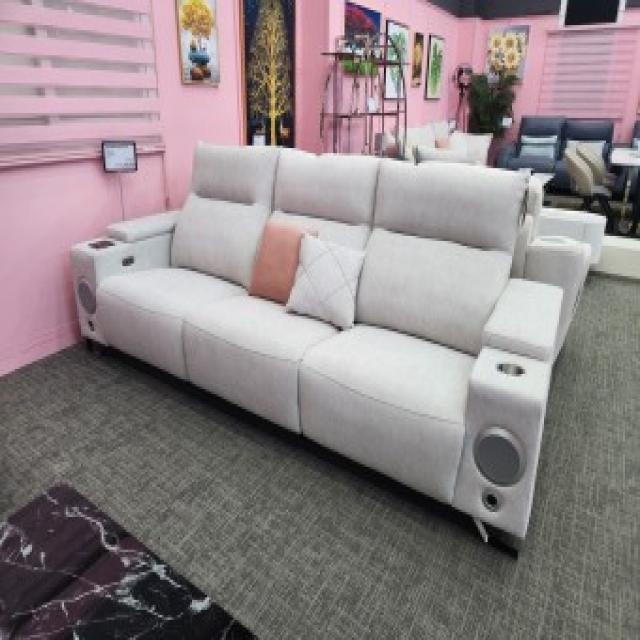Sofa: (68, 138, 590, 555)
